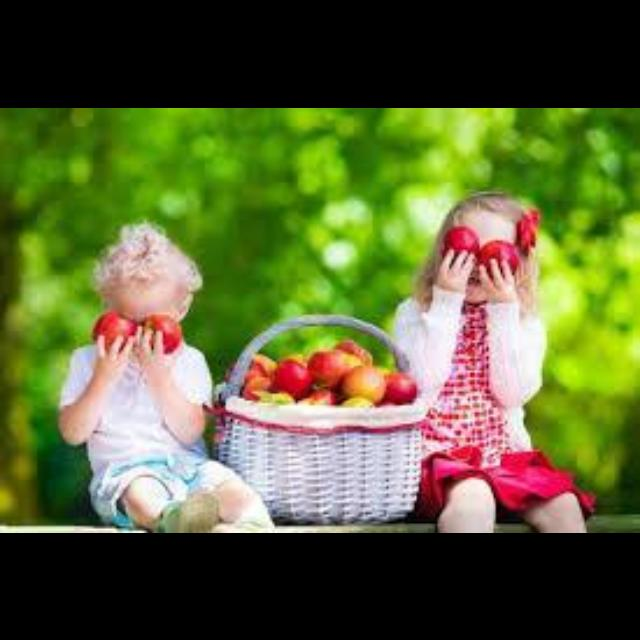apple: (307, 349, 354, 386), (272, 358, 312, 398), (93, 309, 135, 347), (342, 365, 384, 400), (144, 314, 179, 351), (477, 240, 519, 270), (384, 372, 417, 403), (442, 226, 477, 251), (335, 340, 370, 363), (247, 354, 275, 375), (298, 389, 335, 403)
